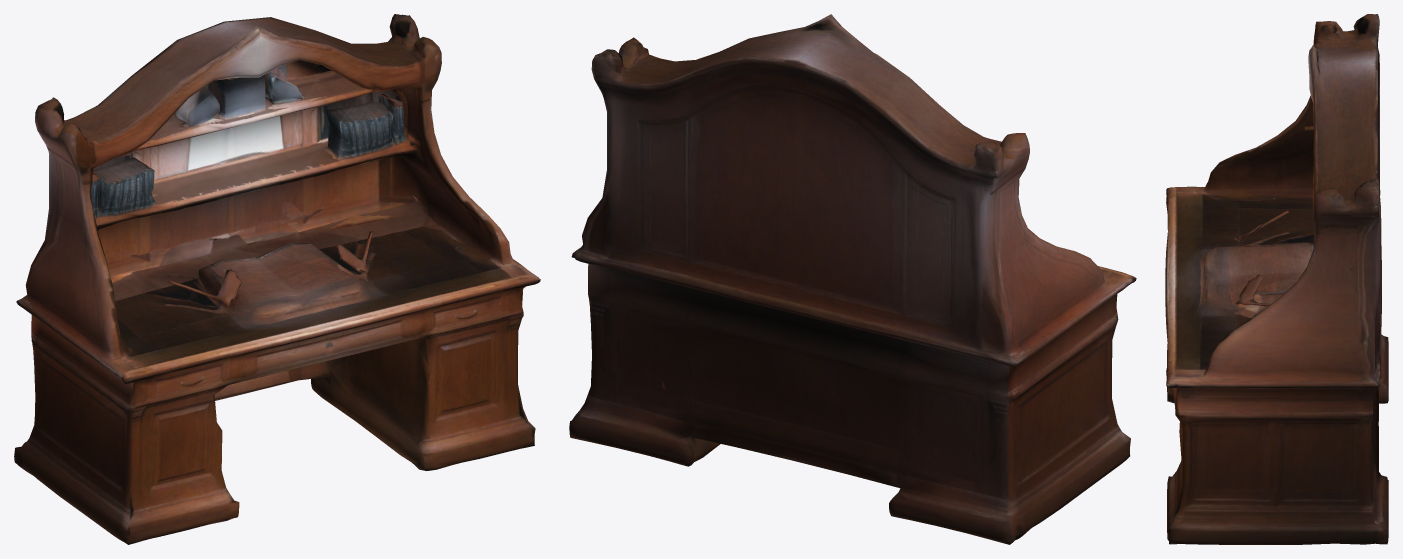
Rendered from desk.glb.
The picture shows the model from 3 angles, left to right: view 1: azimuth 30°, elevation 25°; view 2: azimuth 150°, elevation 25°; view 3: azimuth 270°, elevation 25°; orthographic projection. The views are drawn at different scales.
Size of the model in its own units: 1.99 by 1.9 by 0.9537.
1 material, 1 textured.
